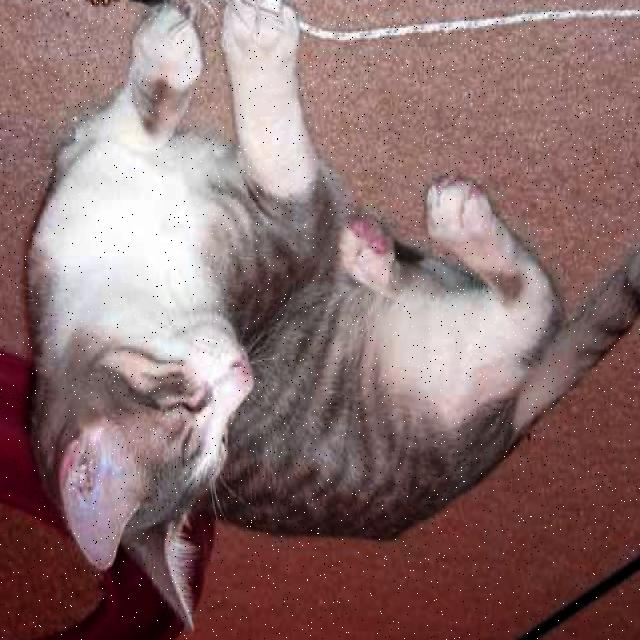Cat: (19, 228, 260, 638)
